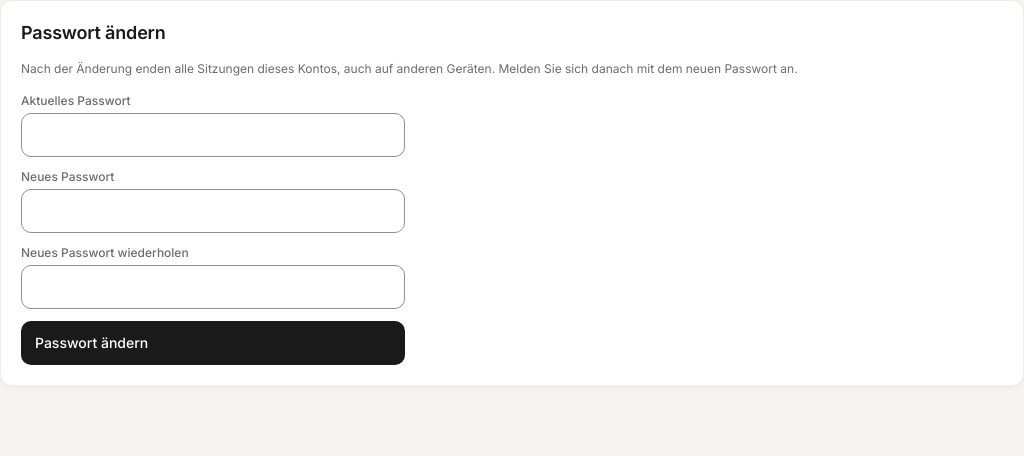
Test case: AccountSessions (GAH-305) › changes the password with the current one
The width and height of the screenshot is (1024, 456).
Type "alt-Passwort-1" into the password field labelled "Aktuelles Passwort". click: coordinates (213, 135)
box: left=21, top=113, right=405, bottom=157
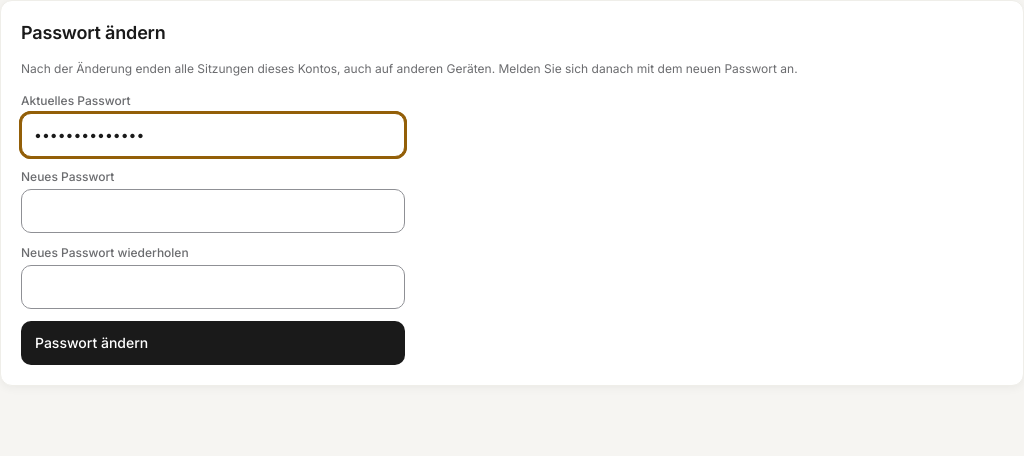
Type "neu-Passwort-12345" into the password field labelled "Neues Passwort". click: coordinates (213, 211)
box: left=21, top=189, right=405, bottom=233
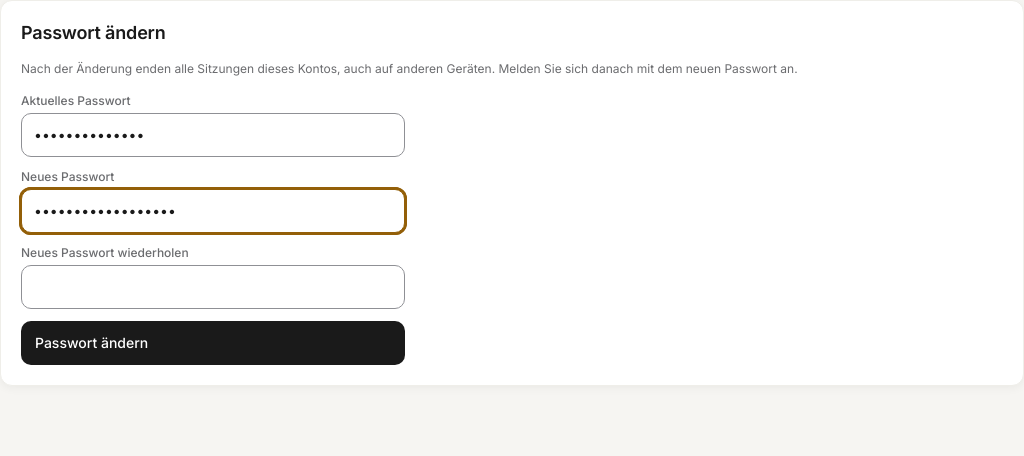
Type "neu-Passwort-12345" into the password field labelled "Neues Passwort wiederholen". click: coordinates (213, 287)
box: left=21, top=265, right=405, bottom=309
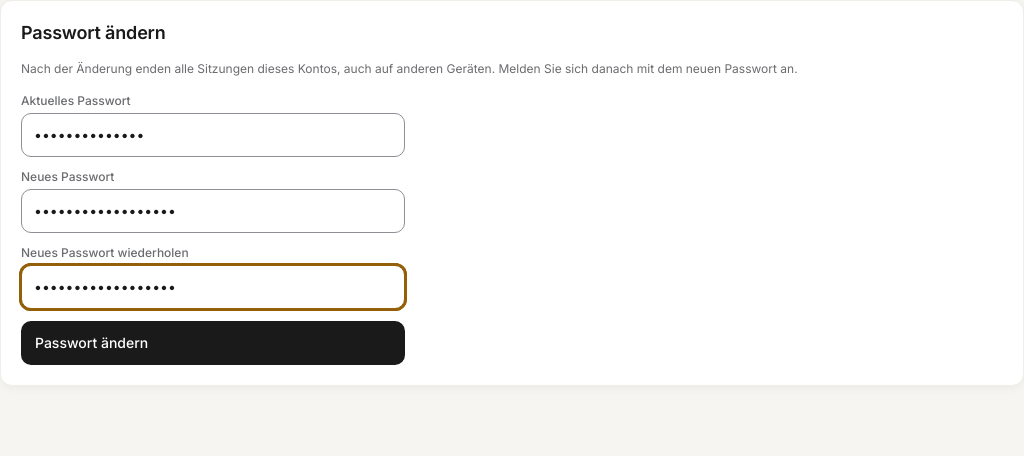
Click the button "Passwort ändern". click: coordinates (92, 342)
box: left=21, top=321, right=405, bottom=365
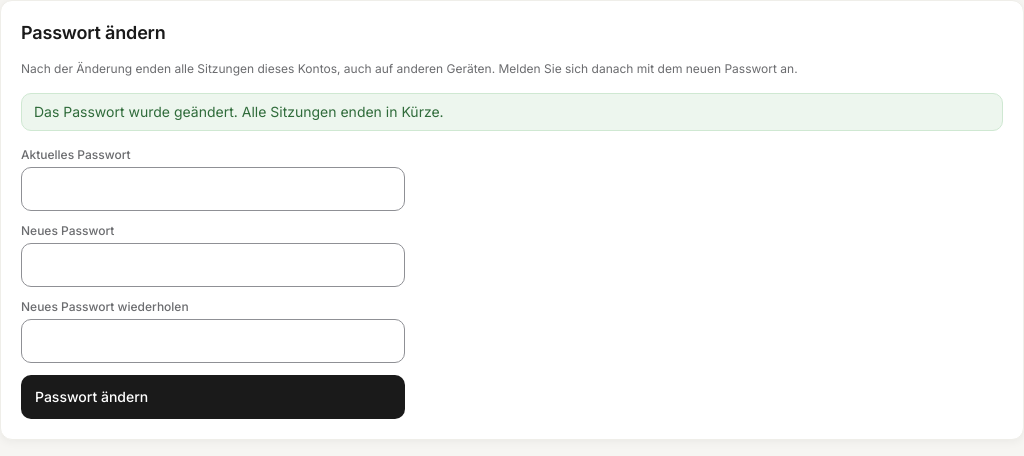
Now the message shows "Das Passwort wurde geändert.", box left=34, top=103, right=444, bottom=120
